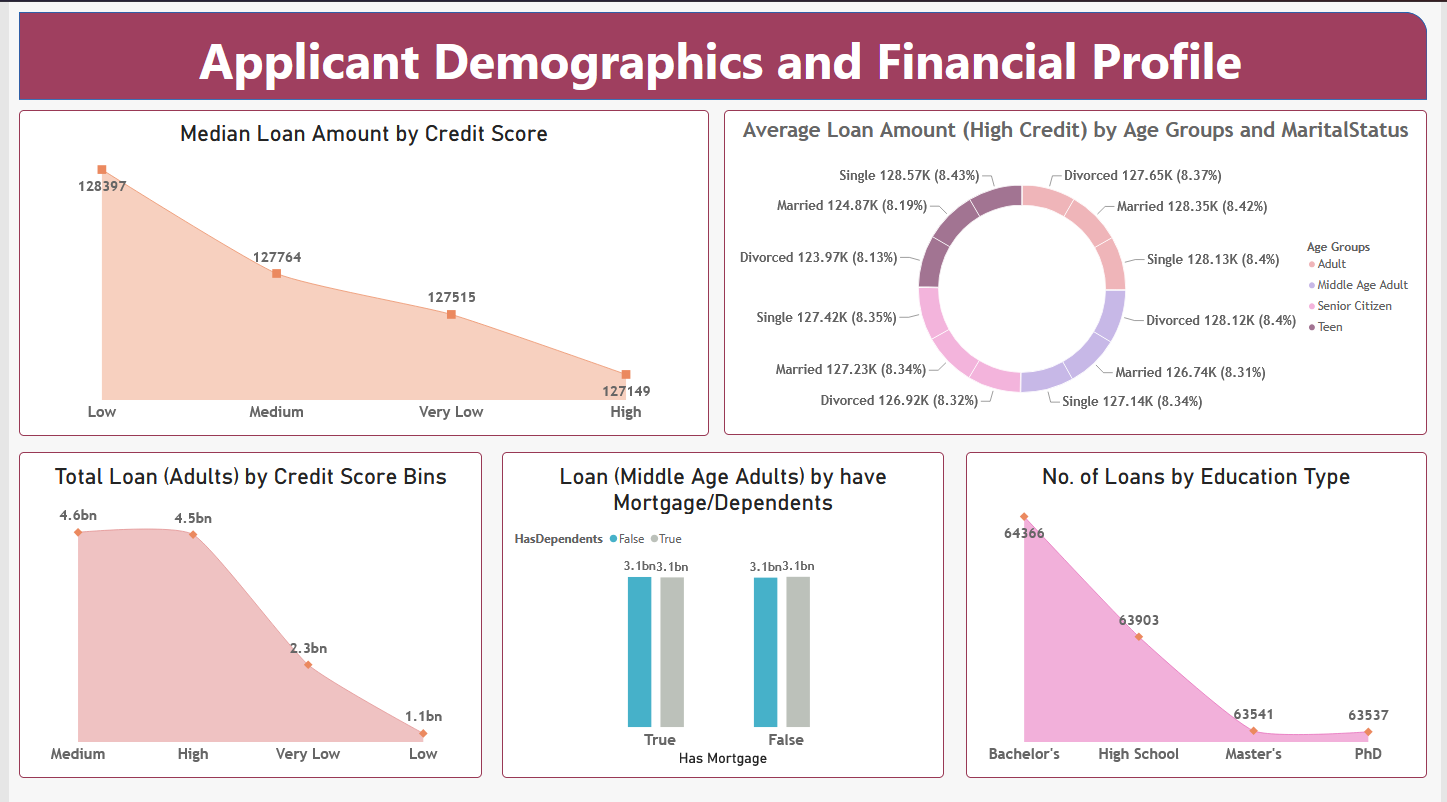

What the dashboard file says about the page in this screenshot:
{"tool":"powerbi","page":{"name":"Applicant Demographics and Financial Profile","canvas":[1920,1080],"ordinal":1},"visuals":[{"type":"shape","title":"Loan Deafult & Overview","box":[12.7,12.7,1889.3,117.6],"z":0},{"type":"lineChart","title":"Median Loan Amount by Credit Score","fields":{"Category":["Loan_default.Credit Score Bins"],"Y":["Measures Table 2.Median by Credit Score bins"]},"box":[12.7,144.8,924.7,437.9],"z":1000},{"type":"donutChart","fields":{"Category":["Loan_default.Age Groups"],"Series":["Loan_default.MaritalStatus"],"Y":["Measures Table 2.Average Loan Amount (High Credit)"]},"box":[959.1,144.8,942.8,437],"z":2000},{"type":"lineChart","title":"Total Loan (Adults) by Credit Score Bins","fields":{"Category":["Loan_default.Credit Score Bins"],"Y":["Measures Table 2.Total Loan (Credit Bins)"]},"box":[12.7,604.4,620.7,437.9],"z":3000},{"type":"clusteredColumnChart","title":"Loan (Middle Age Adults) by have Mortgage/Dependents","fields":{"Category":["Loan_default.HasMortgage"],"Series":["Loan_default.HasDependents"],"Y":["Measures Table 2.Total Loan (Middle Age Adults)"]},"box":[660.5,604.4,593.6,437.9],"z":4000},{"type":"lineChart","title":"No. of Loans by Education Type","fields":{"Category":["Loan_default.Education"],"Y":["Measures Table 2.Loans by Education type"]},"box":[1283,604.4,618.9,437.9],"z":5000}]}

Visuals, with their boxes in screenshot pixels (x1, y1, x2, y2), scaled from the page's 1920x1080 canvas onto the 1447x802 screenshot:
"Loan Deafult & Overview" shape: (10,9,1433,97)
"Median Loan Amount by Credit Score" lineChart: (10,108,706,433)
donutChart - Loan_default.Age Groups x Loan_default.MaritalStatus: (723,108,1433,432)
"Total Loan (Adults) by Credit Score Bins" lineChart: (10,449,477,774)
"Loan (Middle Age Adults) by have Mortgage/Dependents" clusteredColumnChart: (498,449,945,774)
"No. of Loans by Education Type" lineChart: (967,449,1433,774)
